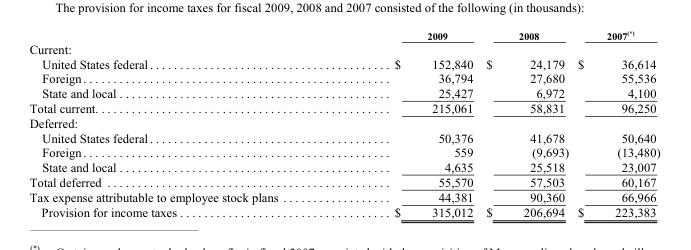table: (28, 28, 659, 218)
table column: (28, 28, 335, 218), (335, 28, 478, 218), (478, 28, 572, 218), (572, 28, 659, 218)
table column header: (28, 28, 659, 41)
table projected row header: (28, 41, 659, 56), (28, 115, 659, 130)
table row: (28, 41, 659, 56), (28, 70, 659, 85), (28, 85, 659, 100), (28, 100, 659, 115), (28, 115, 659, 130), (28, 144, 659, 159), (28, 159, 659, 174), (28, 174, 659, 189), (28, 189, 659, 204), (28, 56, 659, 70), (28, 130, 659, 144), (28, 204, 659, 218), (28, 28, 659, 41)
